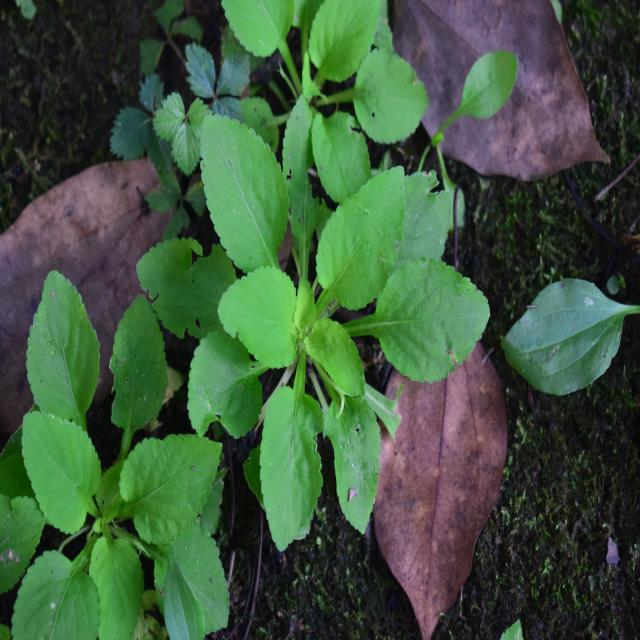Viola: (179, 115, 480, 485), (0, 254, 239, 617)
